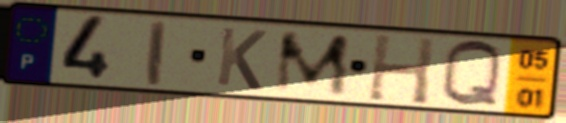4: (58, 12, 120, 85)
H: (364, 31, 438, 107)
I: (145, 17, 169, 89)
K: (213, 24, 270, 93)
M: (271, 31, 353, 98)
Q: (437, 38, 505, 110)
